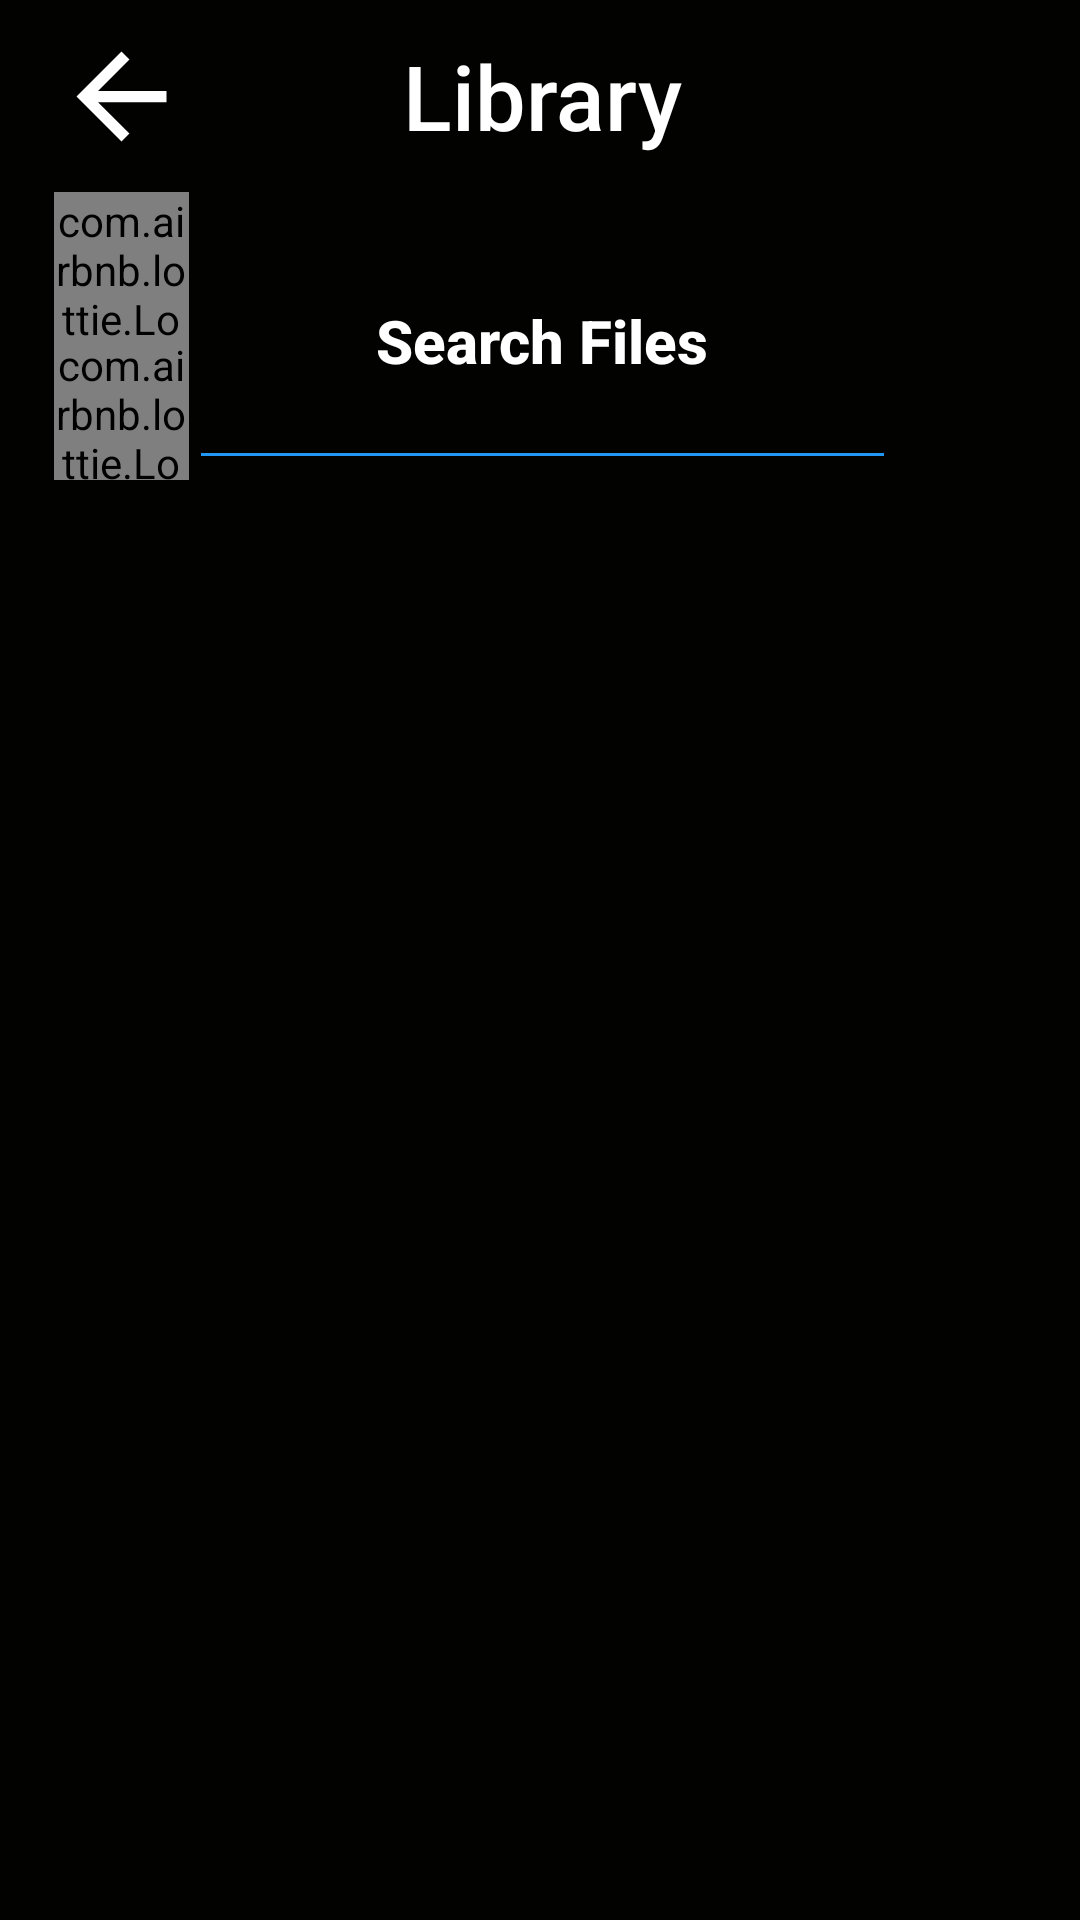

Named icons in this screenshot (1080 × 1920) and their bounding boxes, bbox(x1, y1, x2, y2):
arrow back: bbox(76, 51, 167, 142)
